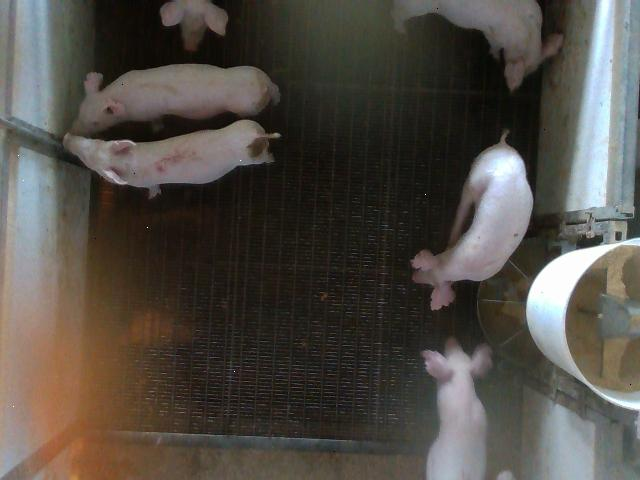pig-5: (64, 120, 280, 196)
